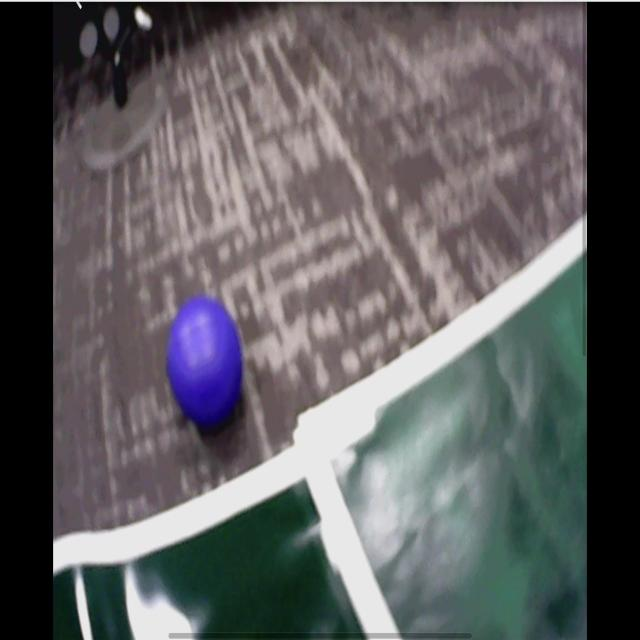ball: (168, 300, 243, 423)
